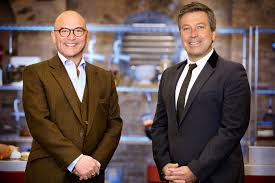Bad: (22, 3, 251, 183)
